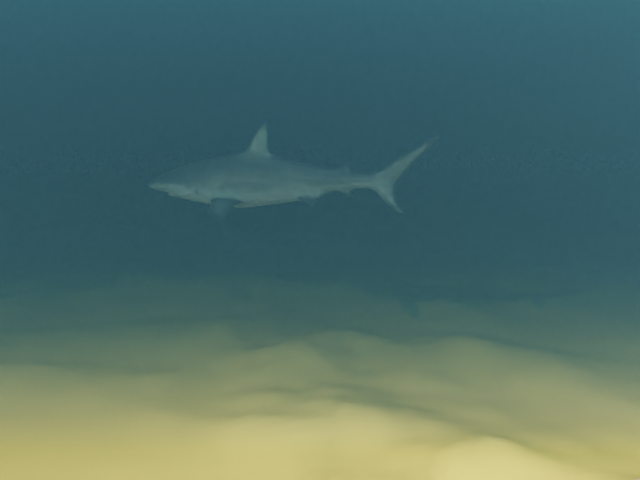Carribean Shark.001: (148, 122, 439, 221)
